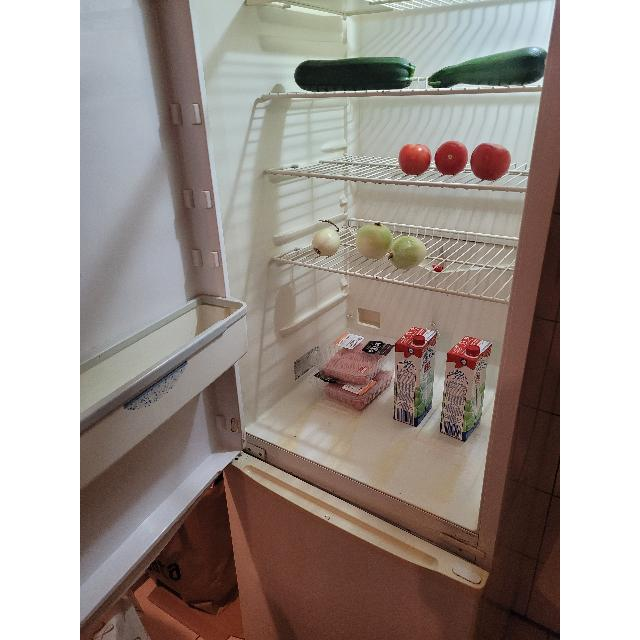meat: (326, 375, 392, 409), (328, 343, 384, 381)
milk: (447, 339, 488, 438), (397, 327, 437, 427)
onion: (389, 238, 431, 270), (354, 225, 391, 257), (313, 229, 341, 257)
tomato: (469, 140, 513, 182), (434, 141, 466, 175), (401, 143, 431, 173)
zucchini: (431, 48, 544, 90), (295, 60, 411, 88)
